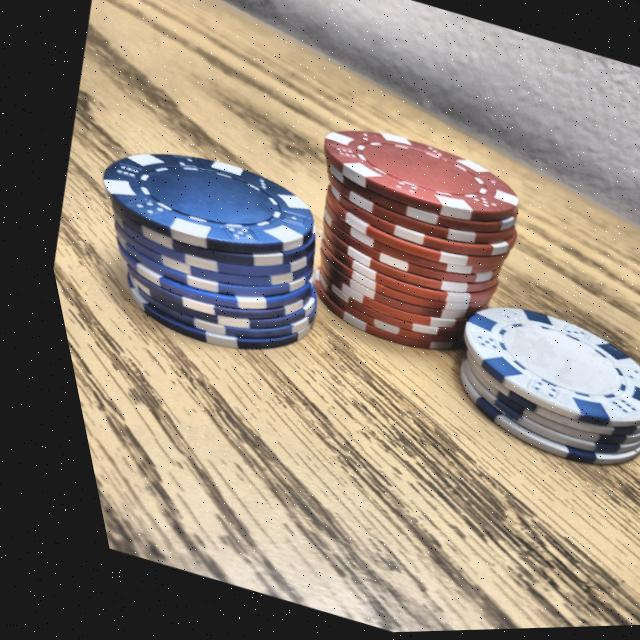Chip: (228, 83, 572, 403), (24, 101, 371, 403), (394, 267, 640, 496)
